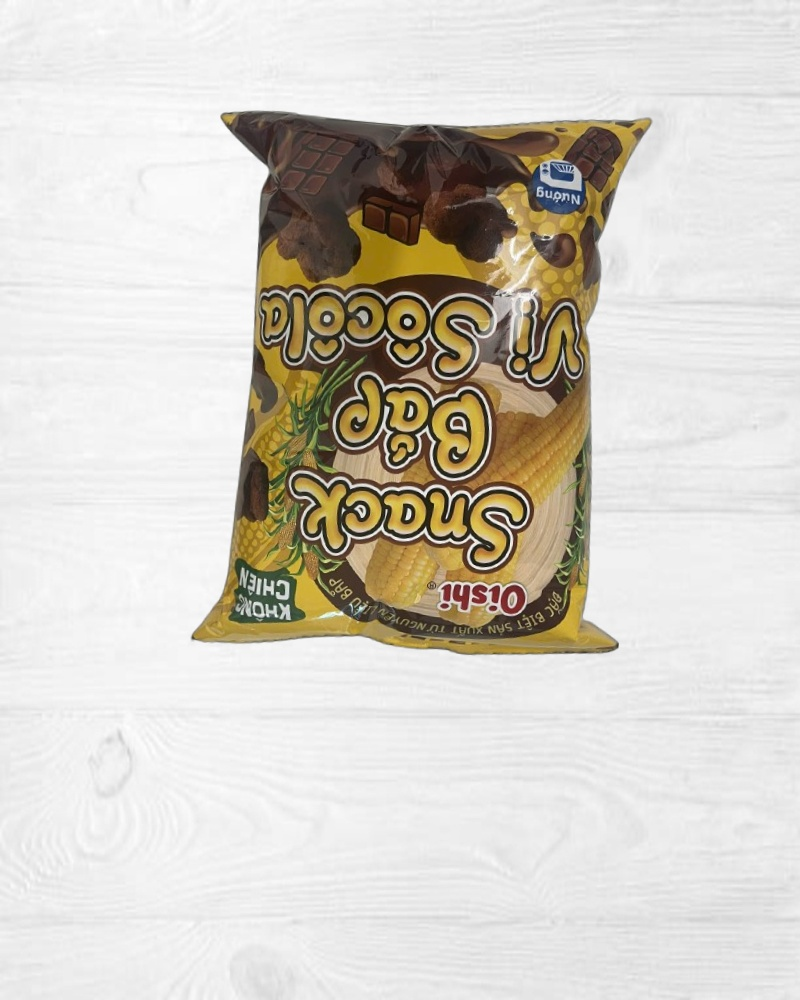Snack socola: (177, 85, 664, 677)
